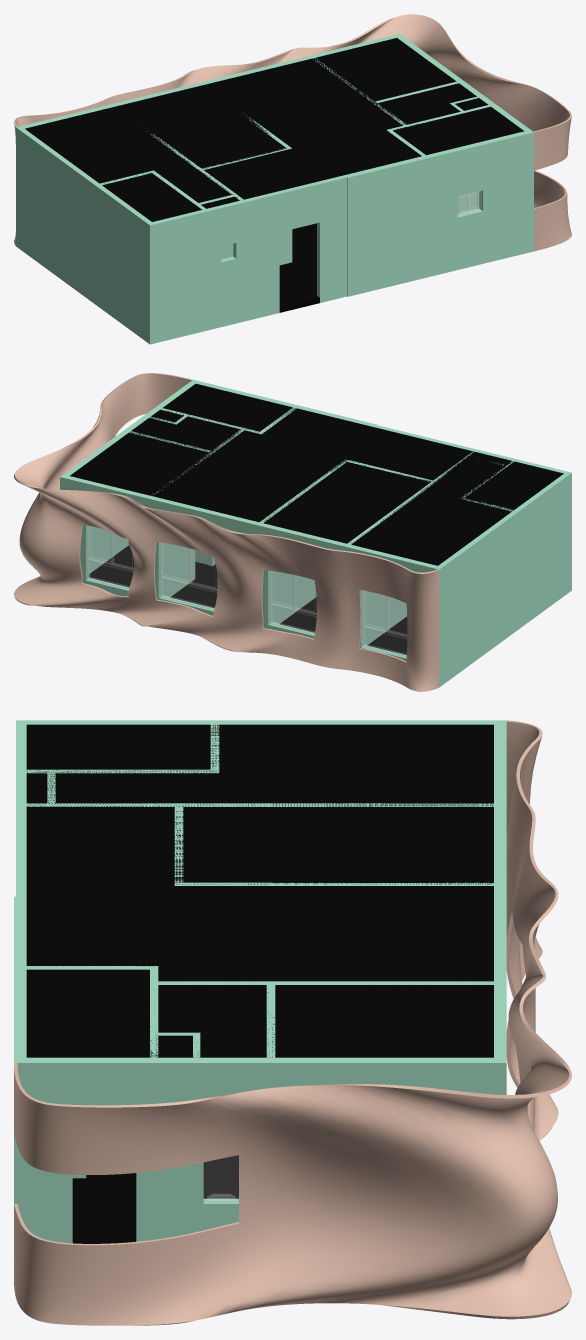
File: threeBR-2-surface.gltf
3 renders of one model, top to bottom at view 1: azimuth 30°, elevation 25°; view 2: azimuth 150°, elevation 25°; view 3: azimuth 270°, elevation 25°, orthographic. The views are drawn at different scales.
Size of the model in its own units: 12.95 by 3.49 by 7.88.
